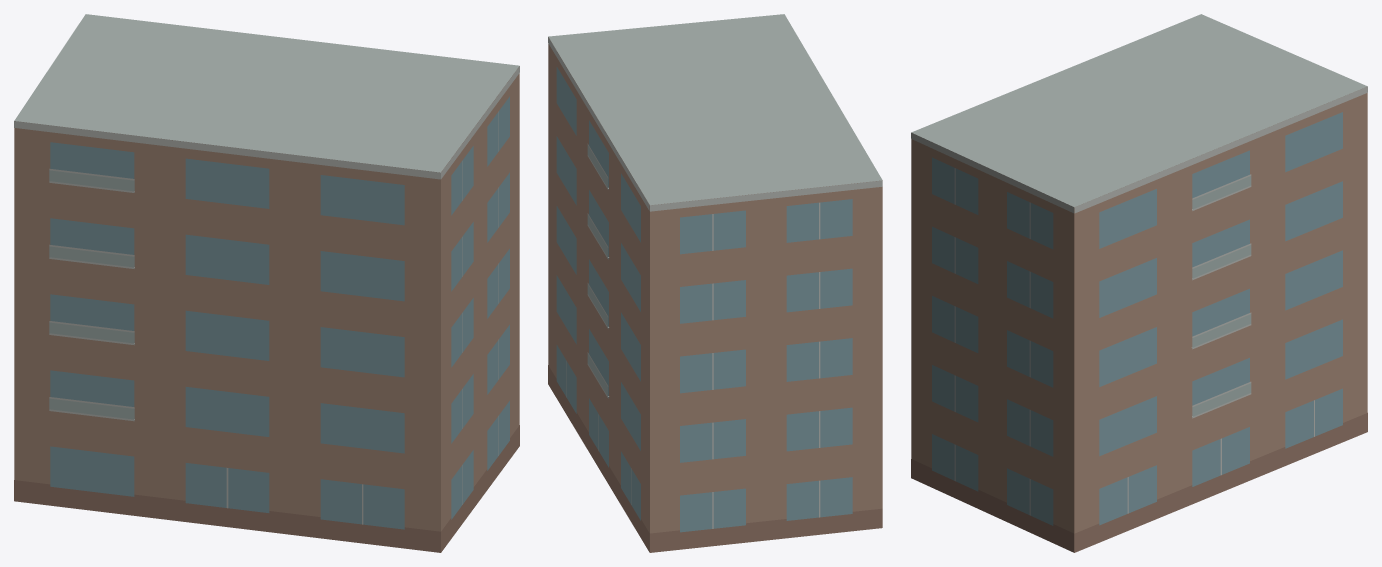
File: survey-upis-32994975.glb
3 views of the same model, side by side, from view 1: azimuth 30°, elevation 25°; view 2: azimuth 150°, elevation 25°; view 3: azimuth 270°, elevation 25° (orthographic). The views are drawn at different scales.
Visible parts, largest first — view 1: survey-upis-32994975.tmp; view 2: survey-upis-32994975.tmp; view 3: survey-upis-32994975.tmp.
Part boxes in pixels (x1,y1,x2,y2): survey-upis-32994975.tmp: (14,14,519,552); survey-upis-32994975.tmp: (548,14,882,552); survey-upis-32994975.tmp: (911,14,1367,552).
Size of the model in its own units: 16.02 by 13.35 by 16.
